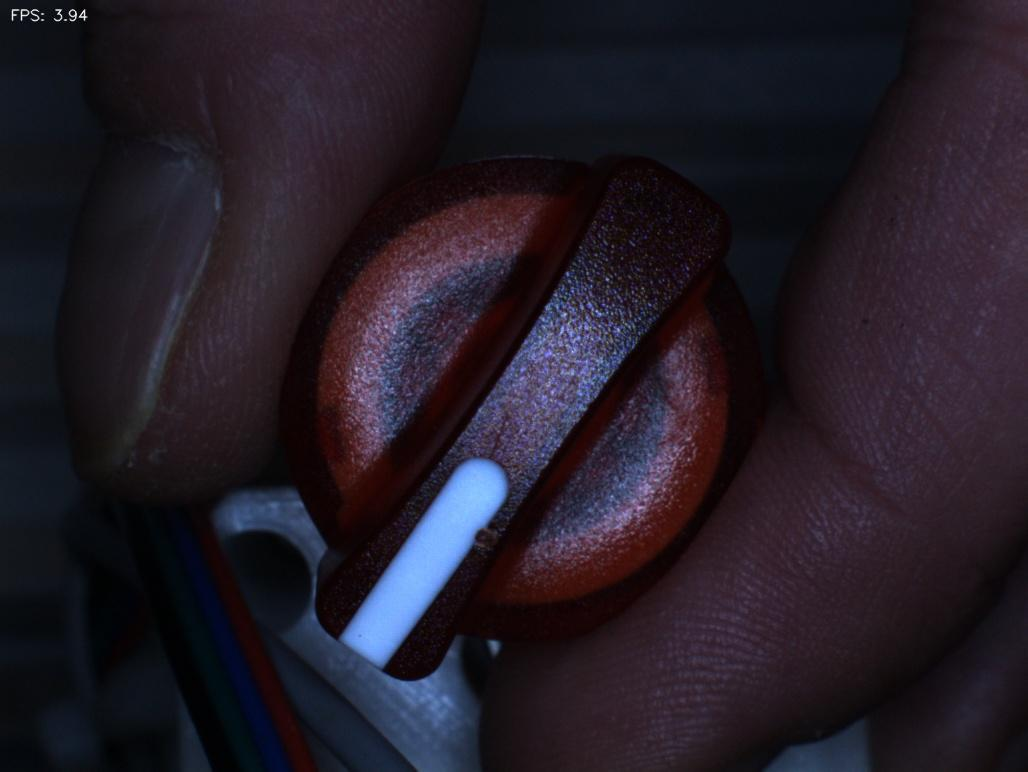Choc: (446, 502, 533, 580)
